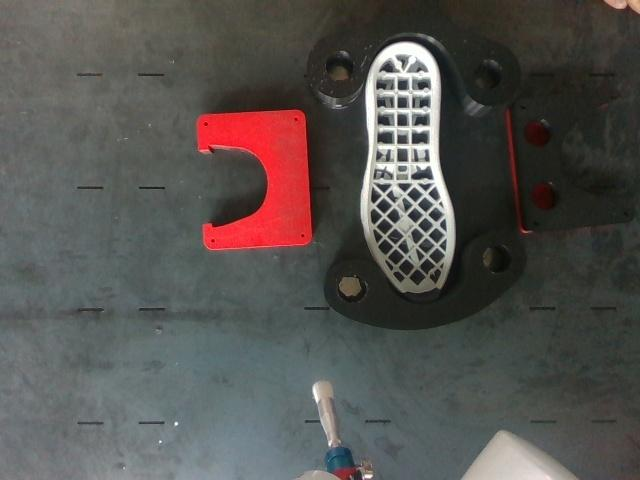shoes: (367, 43, 455, 302)
